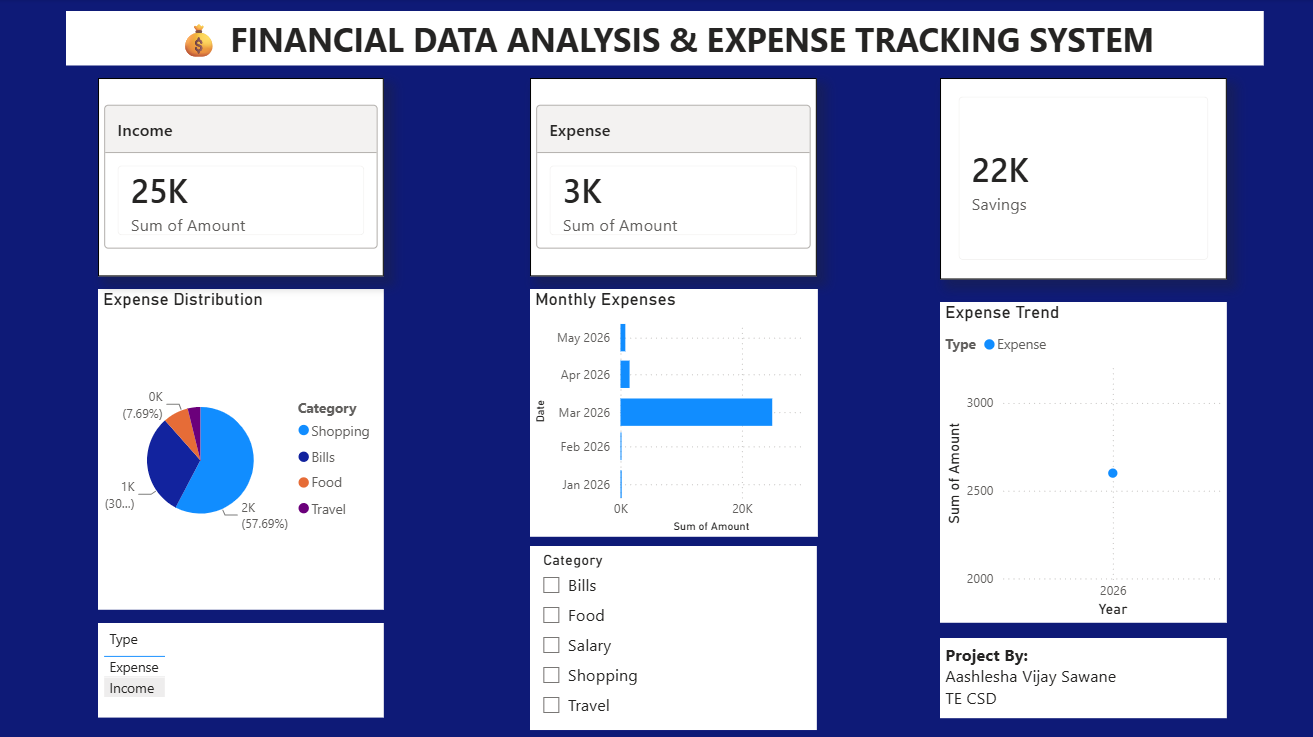

This screenshot's page, from the dashboard's own definition file:
{"tool":"powerbi","page":{"name":"Page 1","canvas":[1280,720],"ordinal":0},"visuals":[{"type":"cardVisual","fields":{"Data":["Sum(Sheet1.Amount)"],"Rows":["Sheet1.Type"]},"box":[515.5,76.8,279.1,192.6],"z":0},{"type":"cardVisual","fields":{"Data":["Sheet1.Savings"]},"box":[914.3,76.8,279.1,195.5],"z":1000},{"type":"pieChart","title":"Expense Distribution","fields":{"Category":["Sheet1.Category"],"Y":["Sum(Sheet1.Amount)"],"Series":["Sheet1.Type"]},"box":[95.3,282.1,278.2,312.2],"z":2000},{"type":"clusteredBarChart","title":"Monthly Expenses","fields":{"Y":["Sum(Sheet1.Amount)"],"Category":["Sheet1.Date"]},"box":[515.5,282.1,280.1,241.2],"z":3000},{"type":"lineChart","title":"Expense Trend","fields":{"Category":["Sheet1.Date.Variation.Date Hierarchy.Year","Sheet1.Date.Variation.Date Hierarchy.Quarter","Sheet1.Date.Variation.Date Hierarchy.Month","Sheet1.Date.Variation.Date Hierarchy.Day"],"Y":["Sum(Sheet1.Amount)"],"Series":["Sheet1.Type"]},"box":[914.3,294.7,279.1,312.2],"z":4000},{"type":"slicer","fields":{"Values":["Sheet1.Category"]},"box":[515.5,532,279.1,179],"z":5000},{"type":"cardVisual","fields":{"Data":["Sum(Sheet1.Amount)"],"Rows":["Sheet1.Type"]},"box":[95.3,76.8,278.2,192.6],"z":6000},{"type":"textbox","box":[64.2,11.7,1165.2,52.5],"z":6001},{"type":"textbox","box":[914.3,621.5,279.1,77.8],"z":6002},{"type":"tableEx","fields":{"Values":["Sheet1.Type"]},"box":[95.3,606.9,278.2,92.4],"z":6003}]}

Visuals, with their boxes in screenshot pixels (x1, y1, x2, y2), scaled from the page's 1280x720 canvas onto the 1313x737 screenshot:
cardVisual - Sum(Sheet1.Amount) x Sheet1.Type: [529,79,815,276]
cardVisual - Sheet1.Savings: [938,79,1224,279]
"Expense Distribution" pieChart: [98,289,383,608]
"Monthly Expenses" clusteredBarChart: [529,289,816,536]
"Expense Trend" lineChart: [938,302,1224,621]
slicer - Sheet1.Category: [529,545,815,728]
cardVisual - Sum(Sheet1.Amount) x Sheet1.Type: [98,79,383,276]
textbox: [66,12,1261,66]
textbox: [938,636,1224,716]
tableEx - Sheet1.Type: [98,621,383,716]
